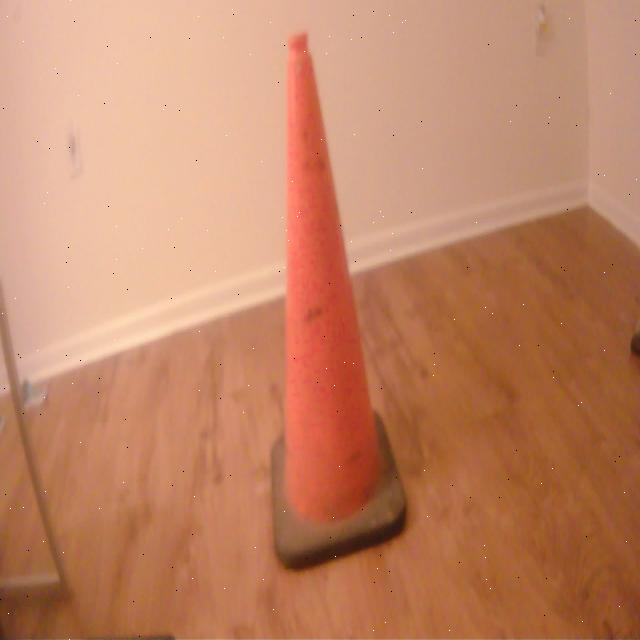traffic cone: (265, 25, 413, 578)
